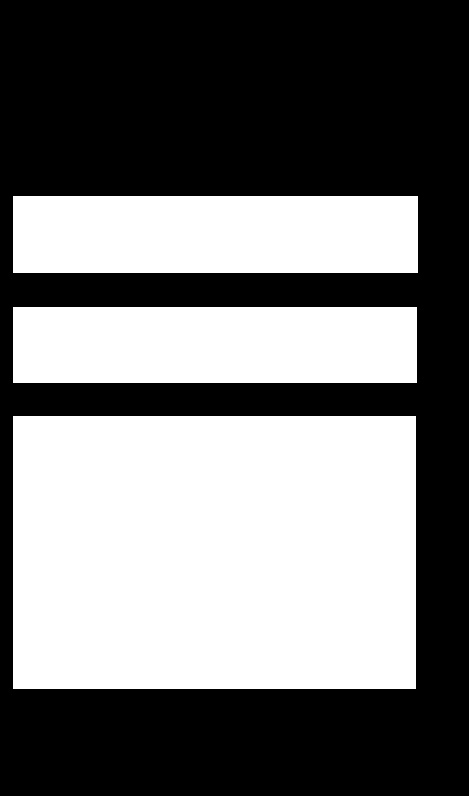table: (13, 416, 415, 688), (13, 196, 417, 272), (13, 307, 416, 382)
